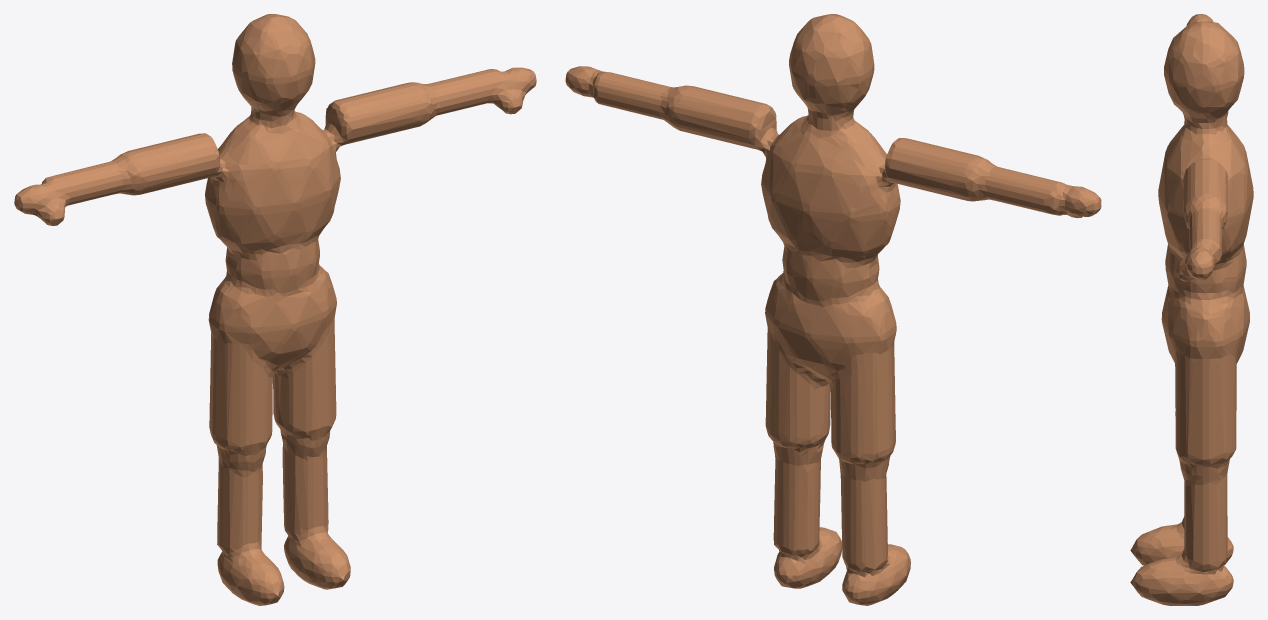
File: BaseFemale_TPose.fbx
3 renders of one model, left to right at view 1: azimuth 30°, elevation 25°; view 2: azimuth 150°, elevation 25°; view 3: azimuth 270°, elevation 25°, orthographic. The views are drawn at different scales.
Visible parts, largest first — view 1: BaseFemale_TPose_Body; view 2: BaseFemale_TPose_Body; view 3: BaseFemale_TPose_Body.
Part boxes in pixels (box(x1,y1,x2,y2)): BaseFemale_TPose_Body: box(14, 14, 536, 605); BaseFemale_TPose_Body: box(565, 14, 1101, 605); BaseFemale_TPose_Body: box(1130, 14, 1253, 605).
Size of the model in its own units: 1.61 by 1.68 by 0.3332.
